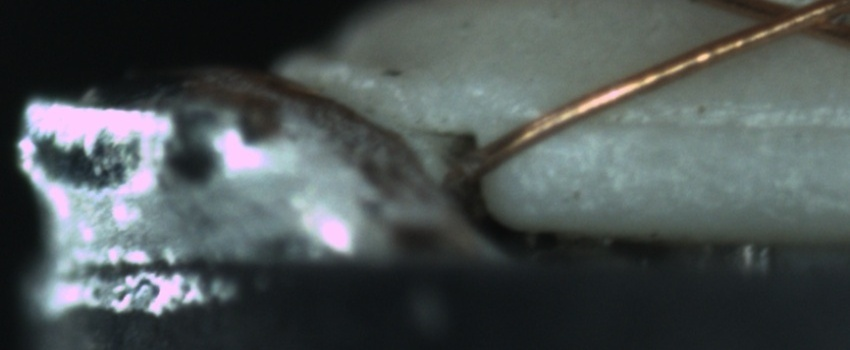CL: (731, 1, 845, 44)
DL: (557, 91, 846, 158)
